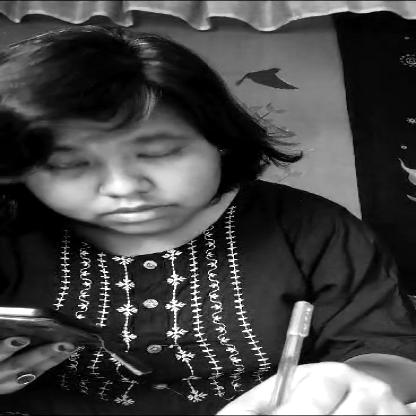Normal: (23, 96, 242, 233)
